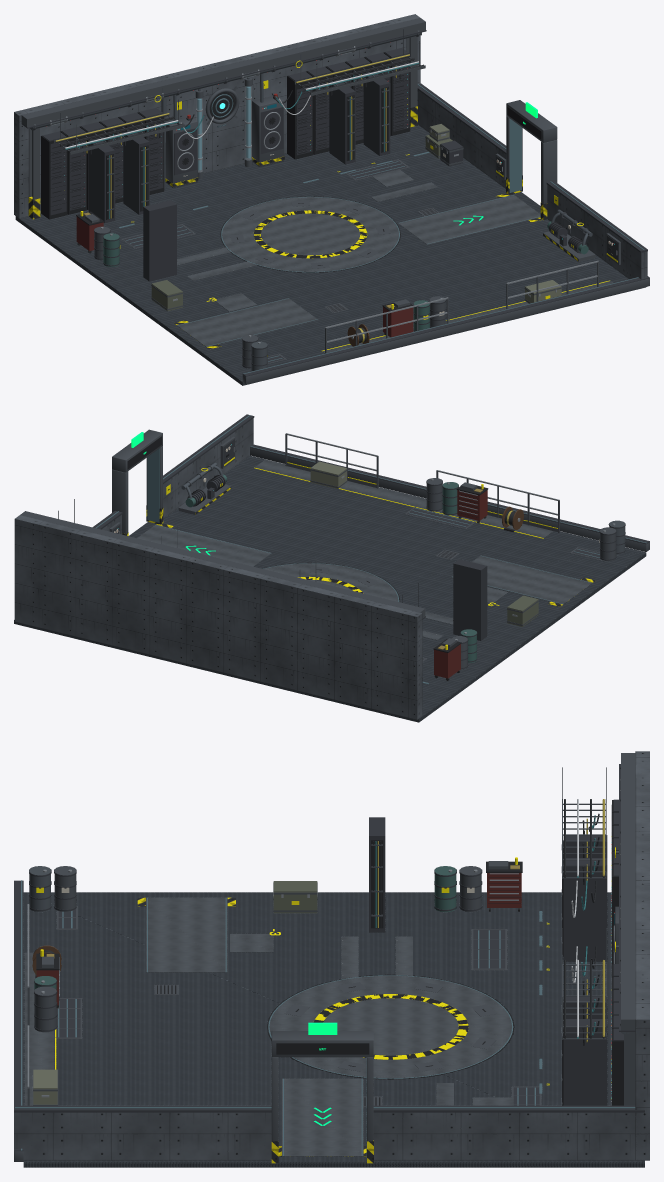
The model's file is room_core.glb.
3 renders of one model, top to bottom at view 1: azimuth 30°, elevation 25°; view 2: azimuth 150°, elevation 25°; view 3: azimuth 270°, elevation 25°, orthographic. The views are drawn at different scales.
Visible parts, largest first — view 1: Body; view 2: Body; view 3: Body.
Part boxes in pixels (box(x1,y1,x2,y2)): Body: box(14, 14, 649, 385); Body: box(14, 414, 649, 722); Body: box(14, 751, 649, 1167).
Size of the model in its own units: 13.23 by 3.42 by 13.1.
33 materials, 4 textured.
